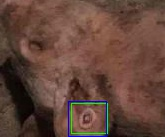text: (71, 103, 107, 133)
